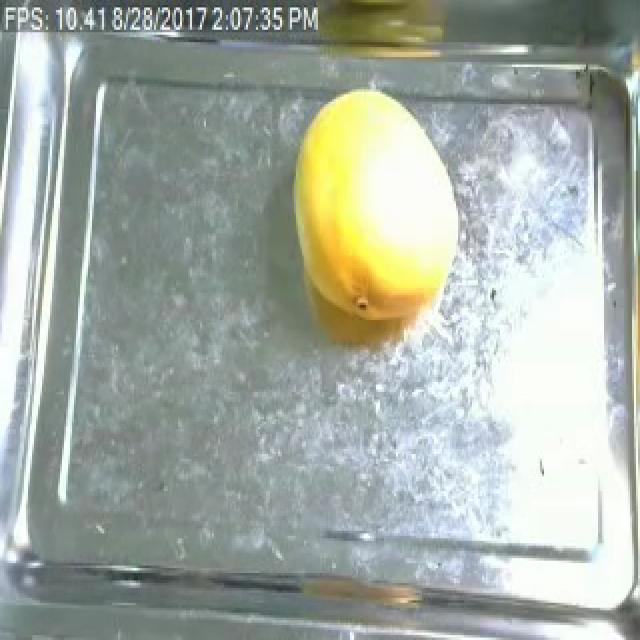fruit: (276, 80, 472, 338)
